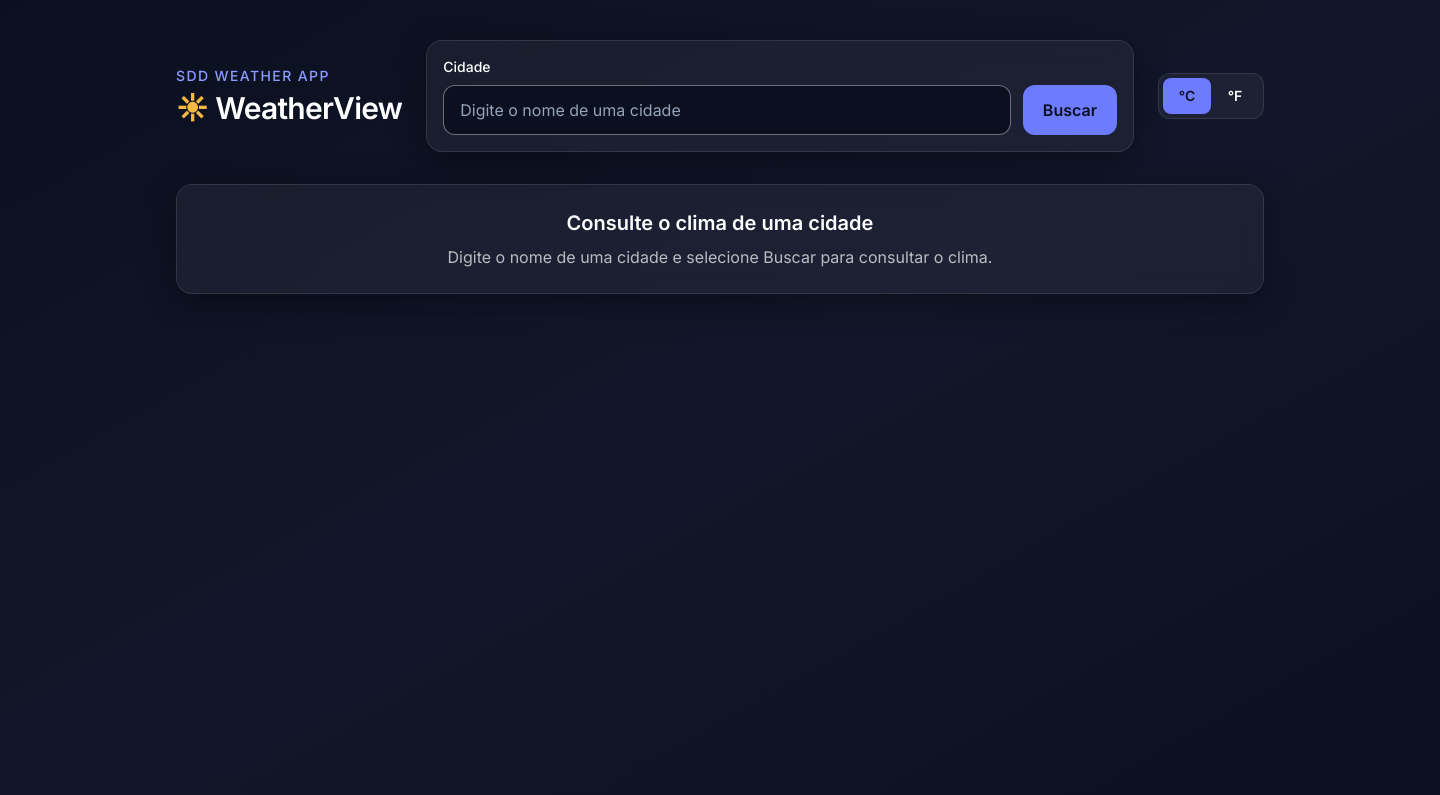
Scenario: App › exibe o erro de search e repete somente a operação que falhou ao tentar novamente
Click the button named "Graus Fahrenheit" at [1235, 96], box [1211,78,1259,114]
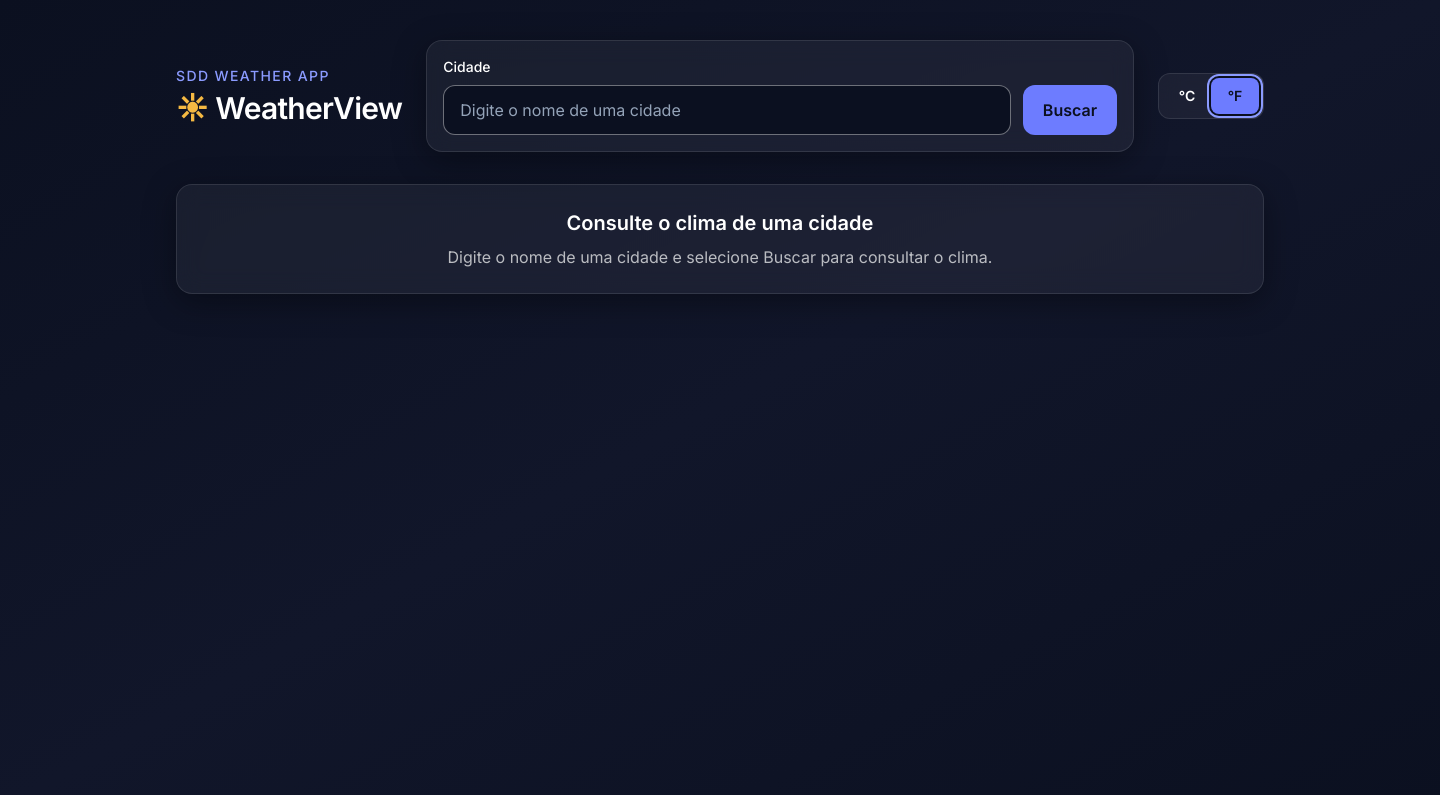
Type "São Paulo" into the search field at [727, 110], box [443,85,1011,135]
Then press Enter
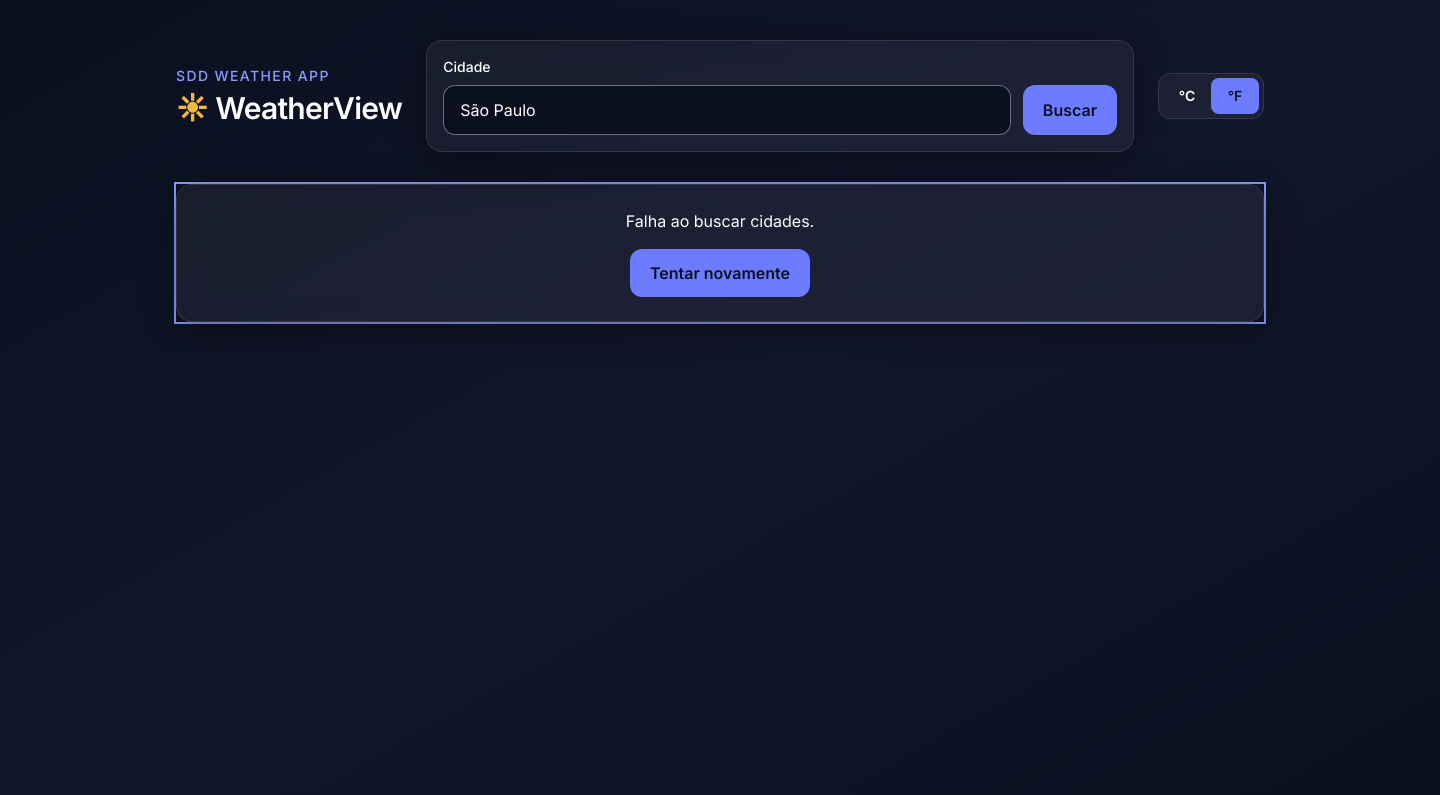
Expected: the message reads "Falha ao buscar cidades.", [626,211,814,231]
Replace the text in the search field with "Outro nome" at [727, 110], box [443,85,1011,135]
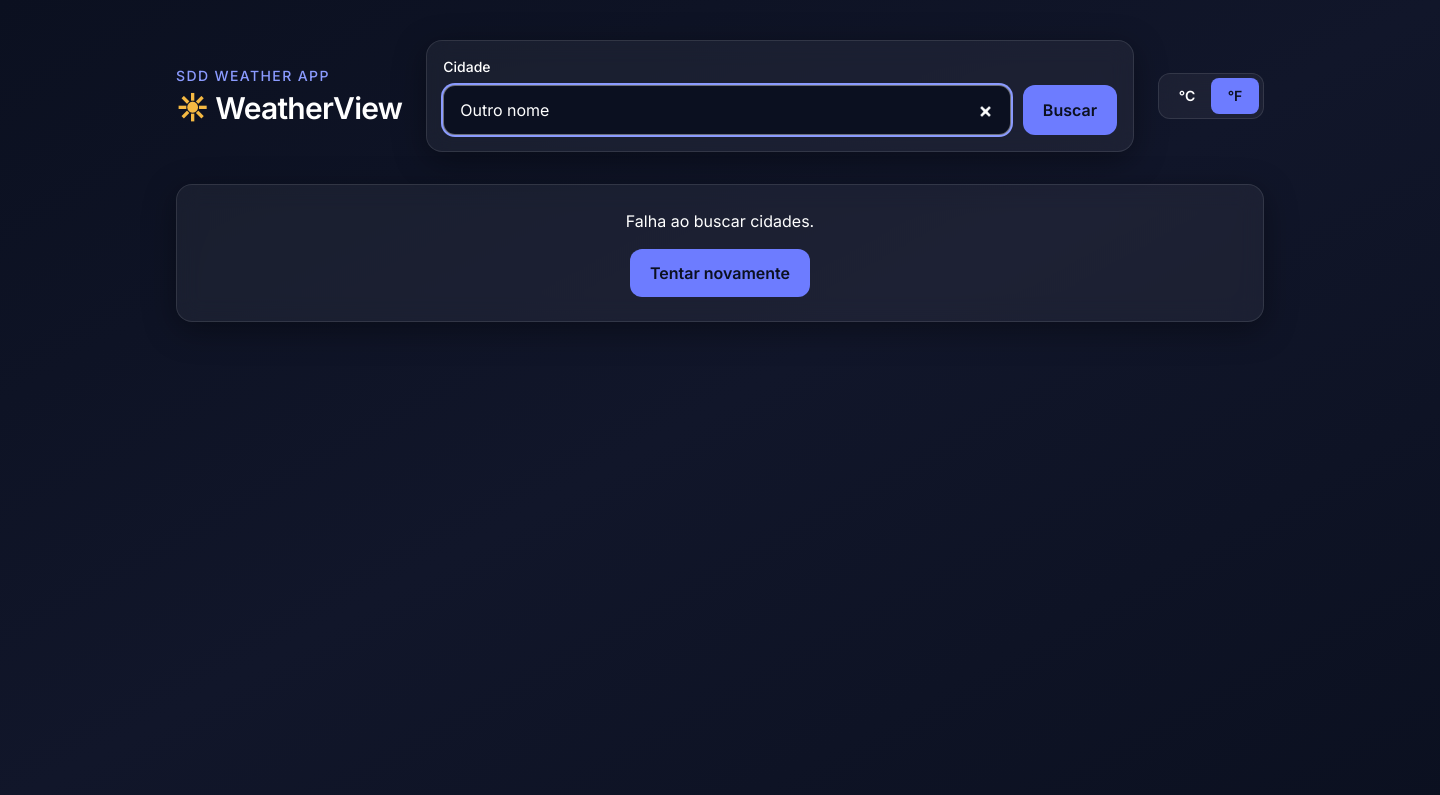
Click the button "Tentar novamente" at [720, 273], box [630,249,810,297]
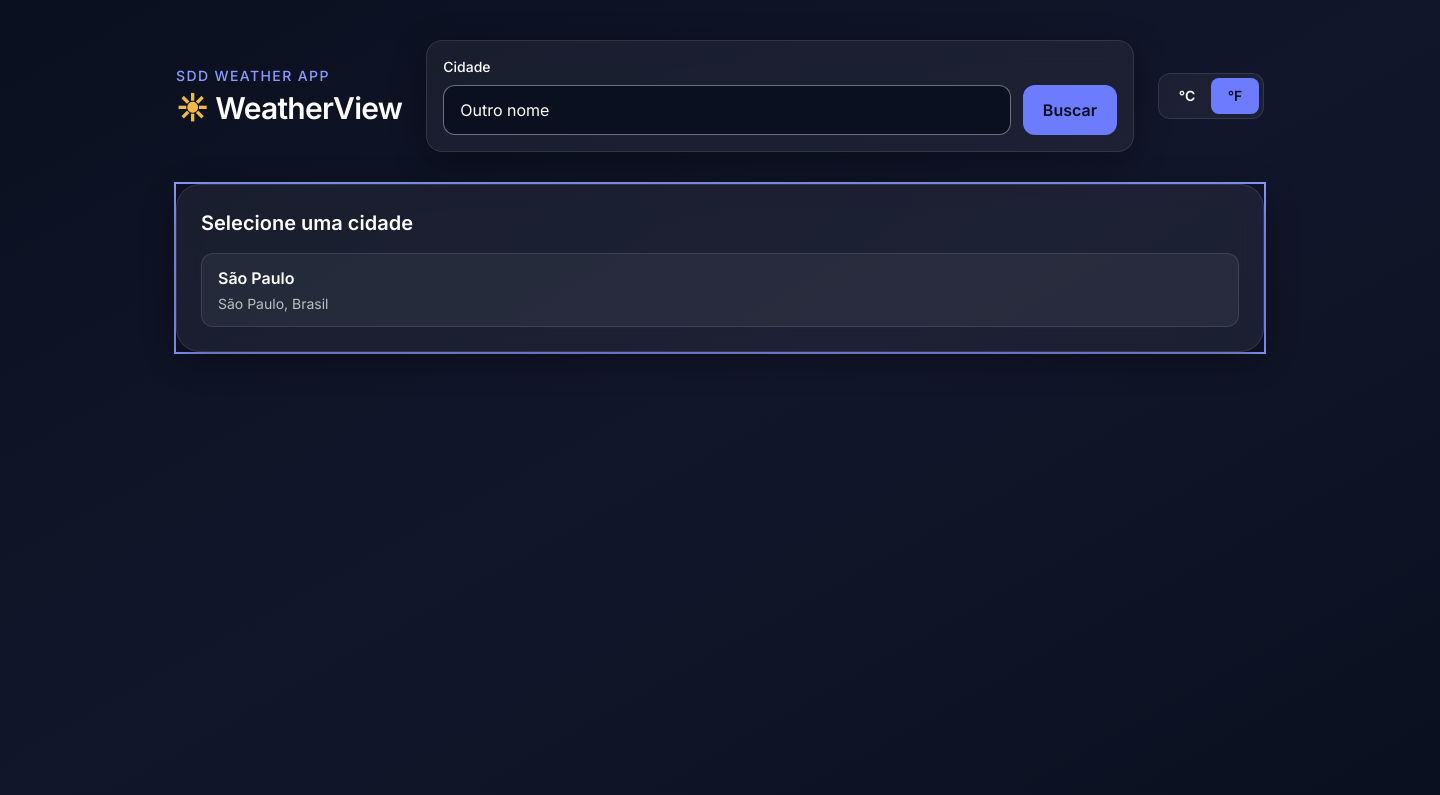
Click the button "São Paulo São Paulo, Brasil" at [256, 278], box [201,253,1239,327]
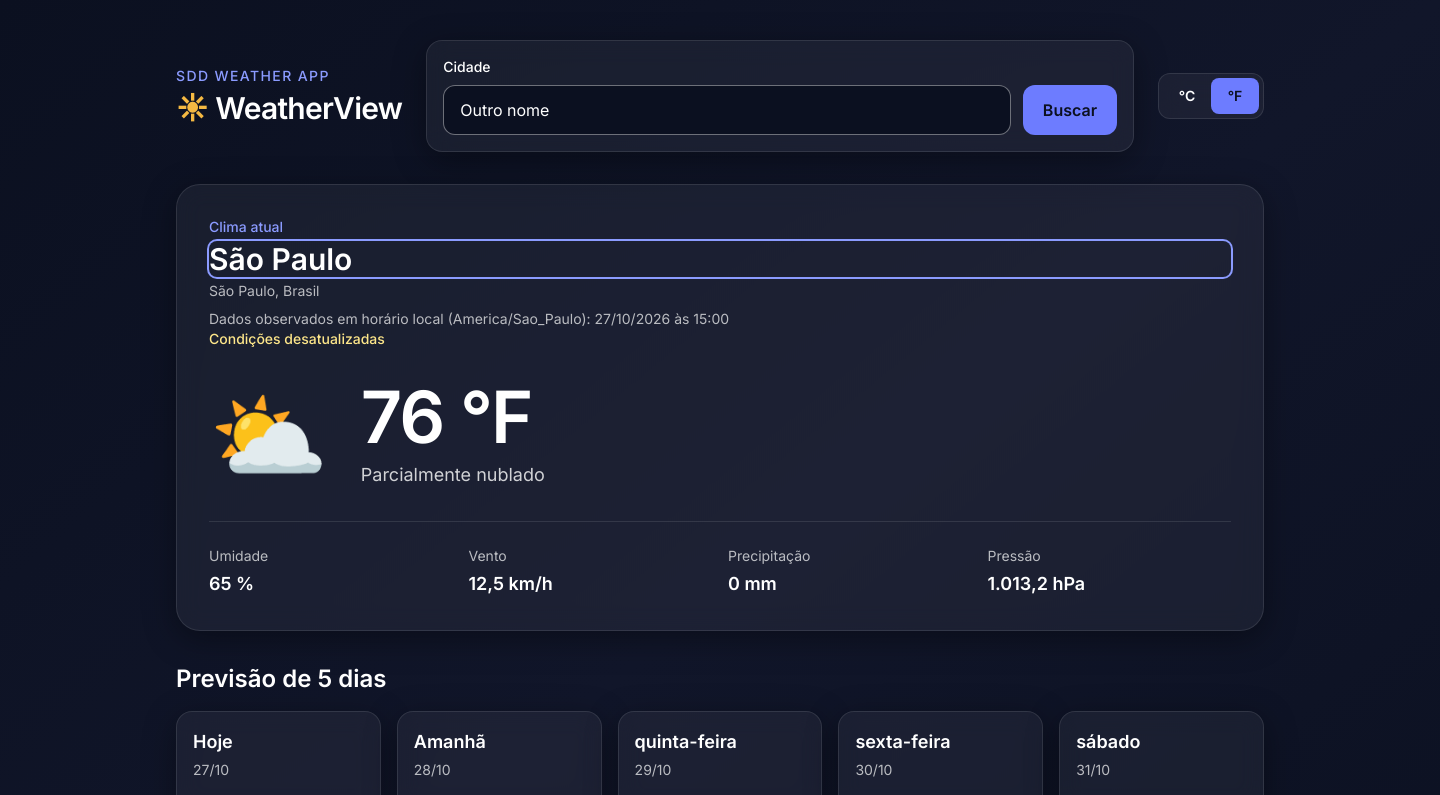
Expected: the message "Falha ao buscar cidades." is not shown
Expected: the text named "Temperatura: 76 °F" is shown, [361,381,545,453]
